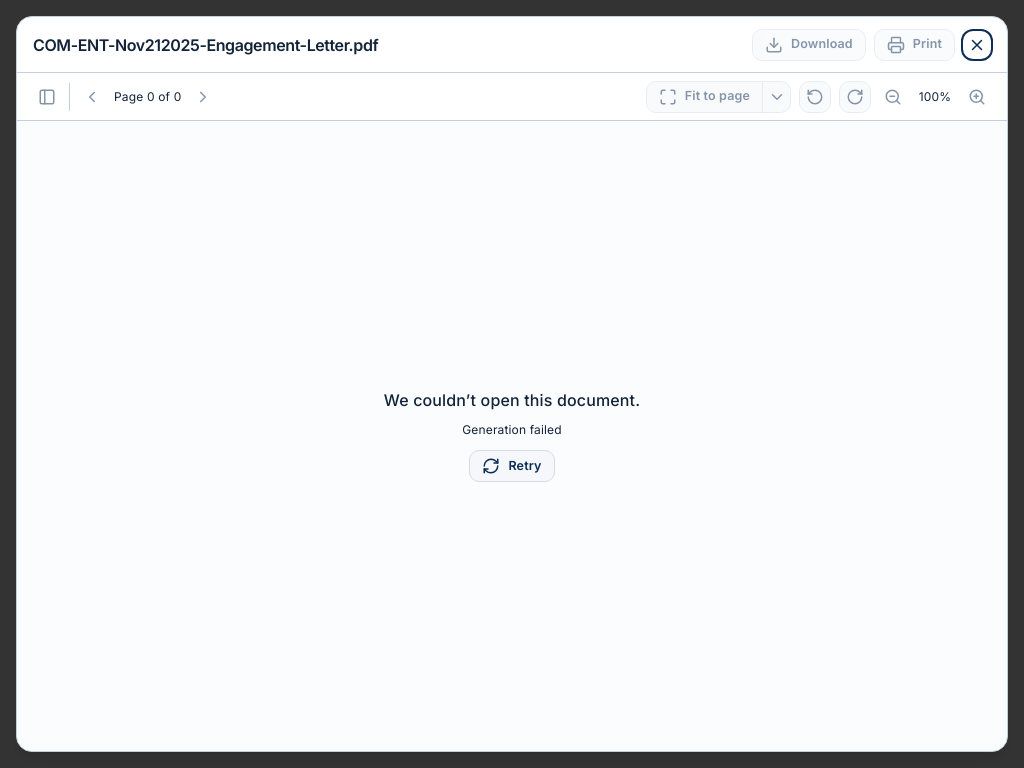
Engagement Letter Preview modal › shows Retry after an opening failure and recovers
Expected: the text "We couldn’t open this document." is shown, [384,390,640,410]
Expected: the text "Generation failed" is shown, [462,422,562,438]
Click the button "Retry" at point(512, 466), box [470,450,555,482]
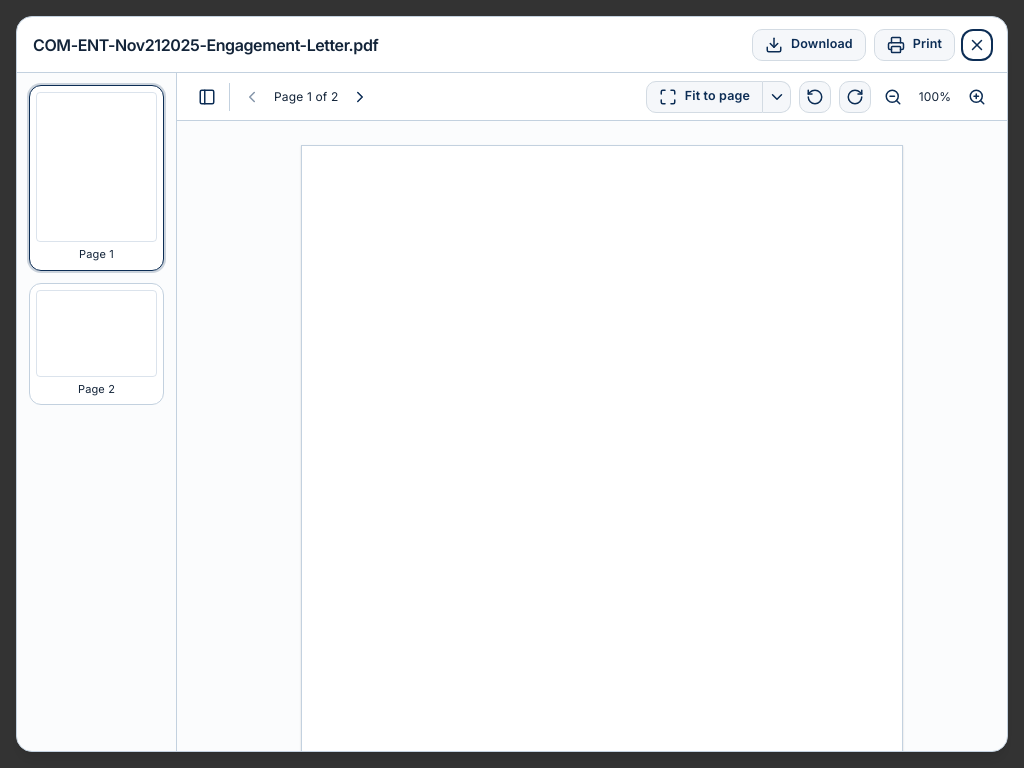
Result: the text "Page 1 of 2" is shown at [274,88,338,104]
